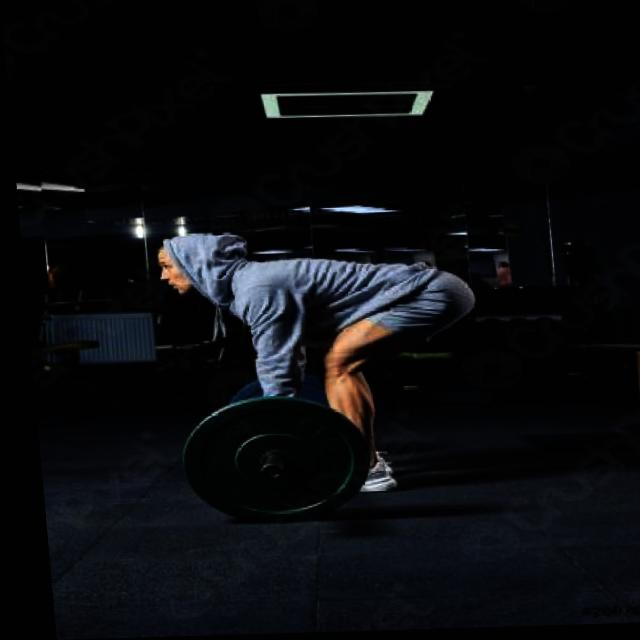barbell: (161, 392, 379, 533)
